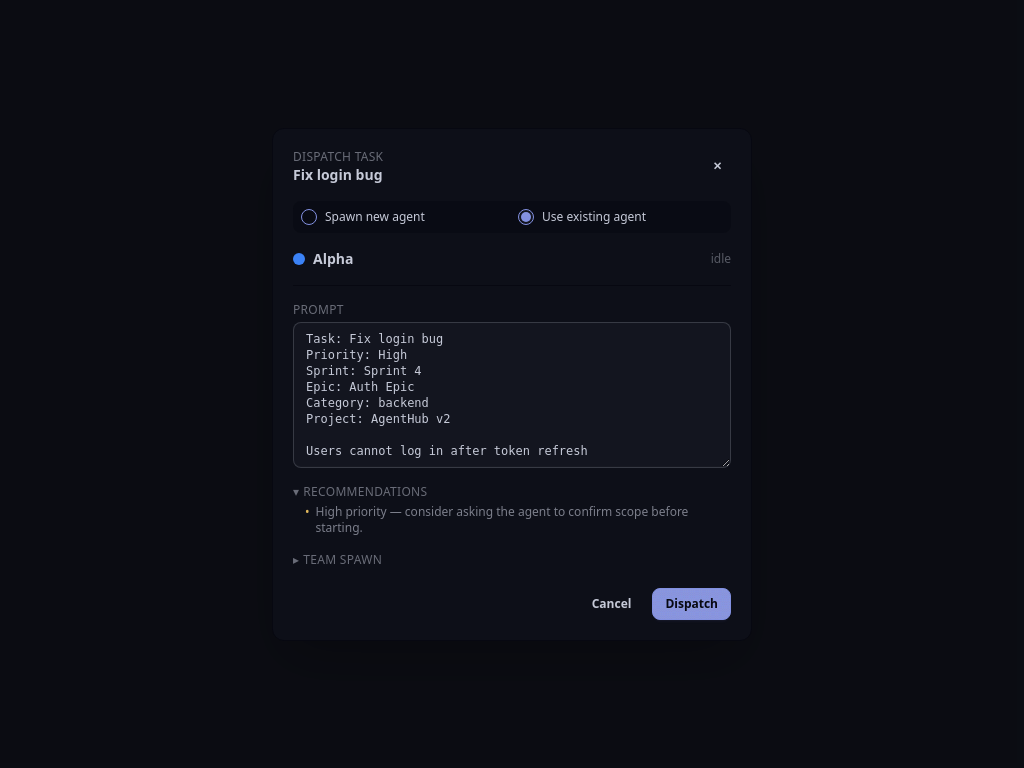
Test case: KanbanDispatchModal — mode toggle › switches between modes when radio buttons are clicked
Expected: the radio button labelled "Use existing agent" is checked, [518,208,534,224]
Click the radio button labelled "Spawn new agent" at (309, 216), box [301,208,317,224]
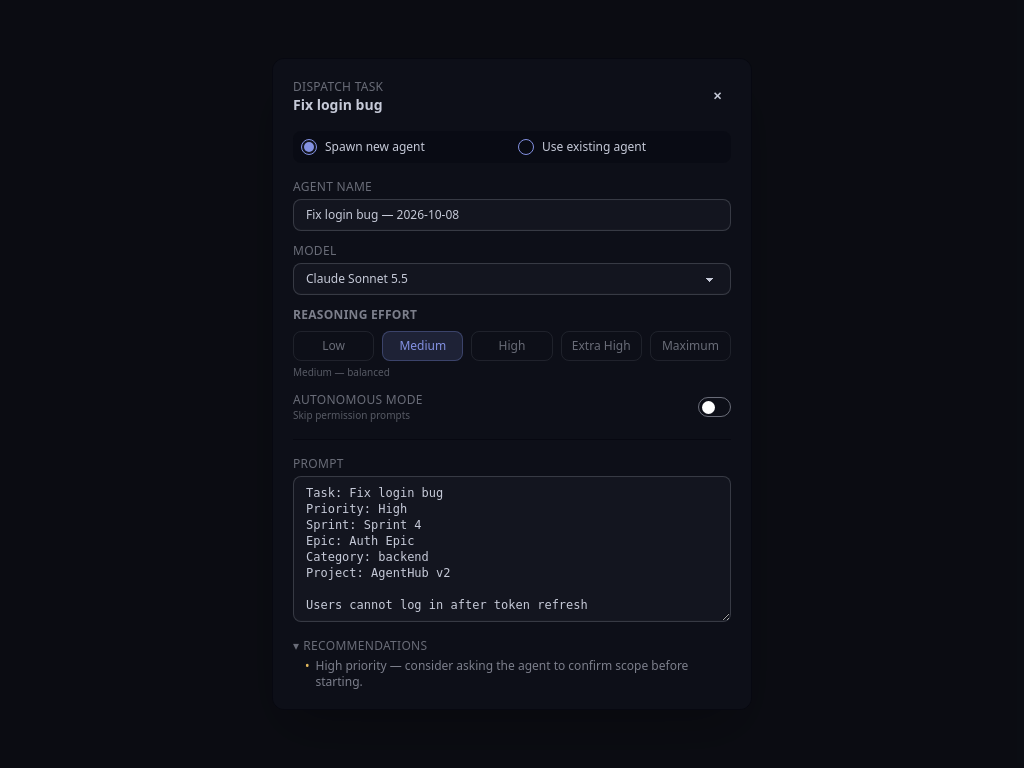
Result: the radio button labelled "Spawn new agent" is checked at [301,139,317,155]
Result: the field labelled "Agent name" is shown at [293,199,731,231]
